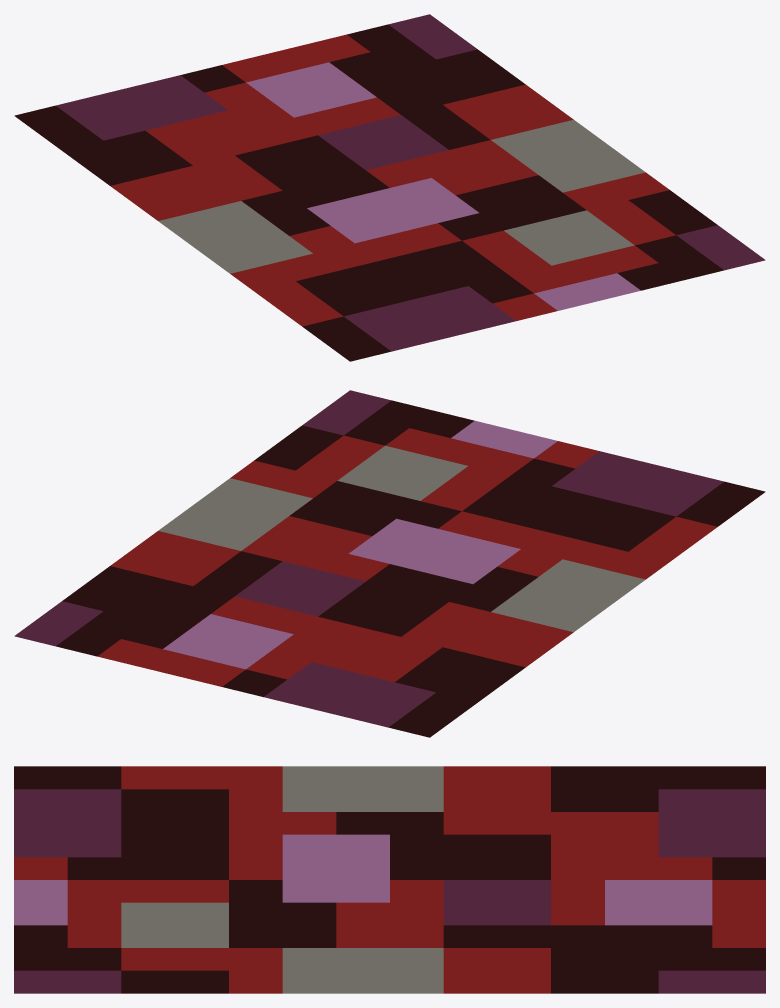
The model's file is DB_CLP11803_JLS.FBX.
3 views of the same model, one above another, from view 1: azimuth 30°, elevation 25°; view 2: azimuth 150°, elevation 25°; view 3: azimuth 270°, elevation 25° (orthographic). The views are drawn at different scales.
Parts seen in each view (by area): view 1: DB_CLP11803_JLS; view 2: DB_CLP11803_JLS; view 3: DB_CLP11803_JLS.
Part boxes in pixels (x1,y1,x2,y2): DB_CLP11803_JLS: [14, 14, 765, 361]; DB_CLP11803_JLS: [14, 390, 765, 737]; DB_CLP11803_JLS: [14, 766, 765, 993].
Bounding box in the file's own units: 500 × 4.29e-14 × 700.
